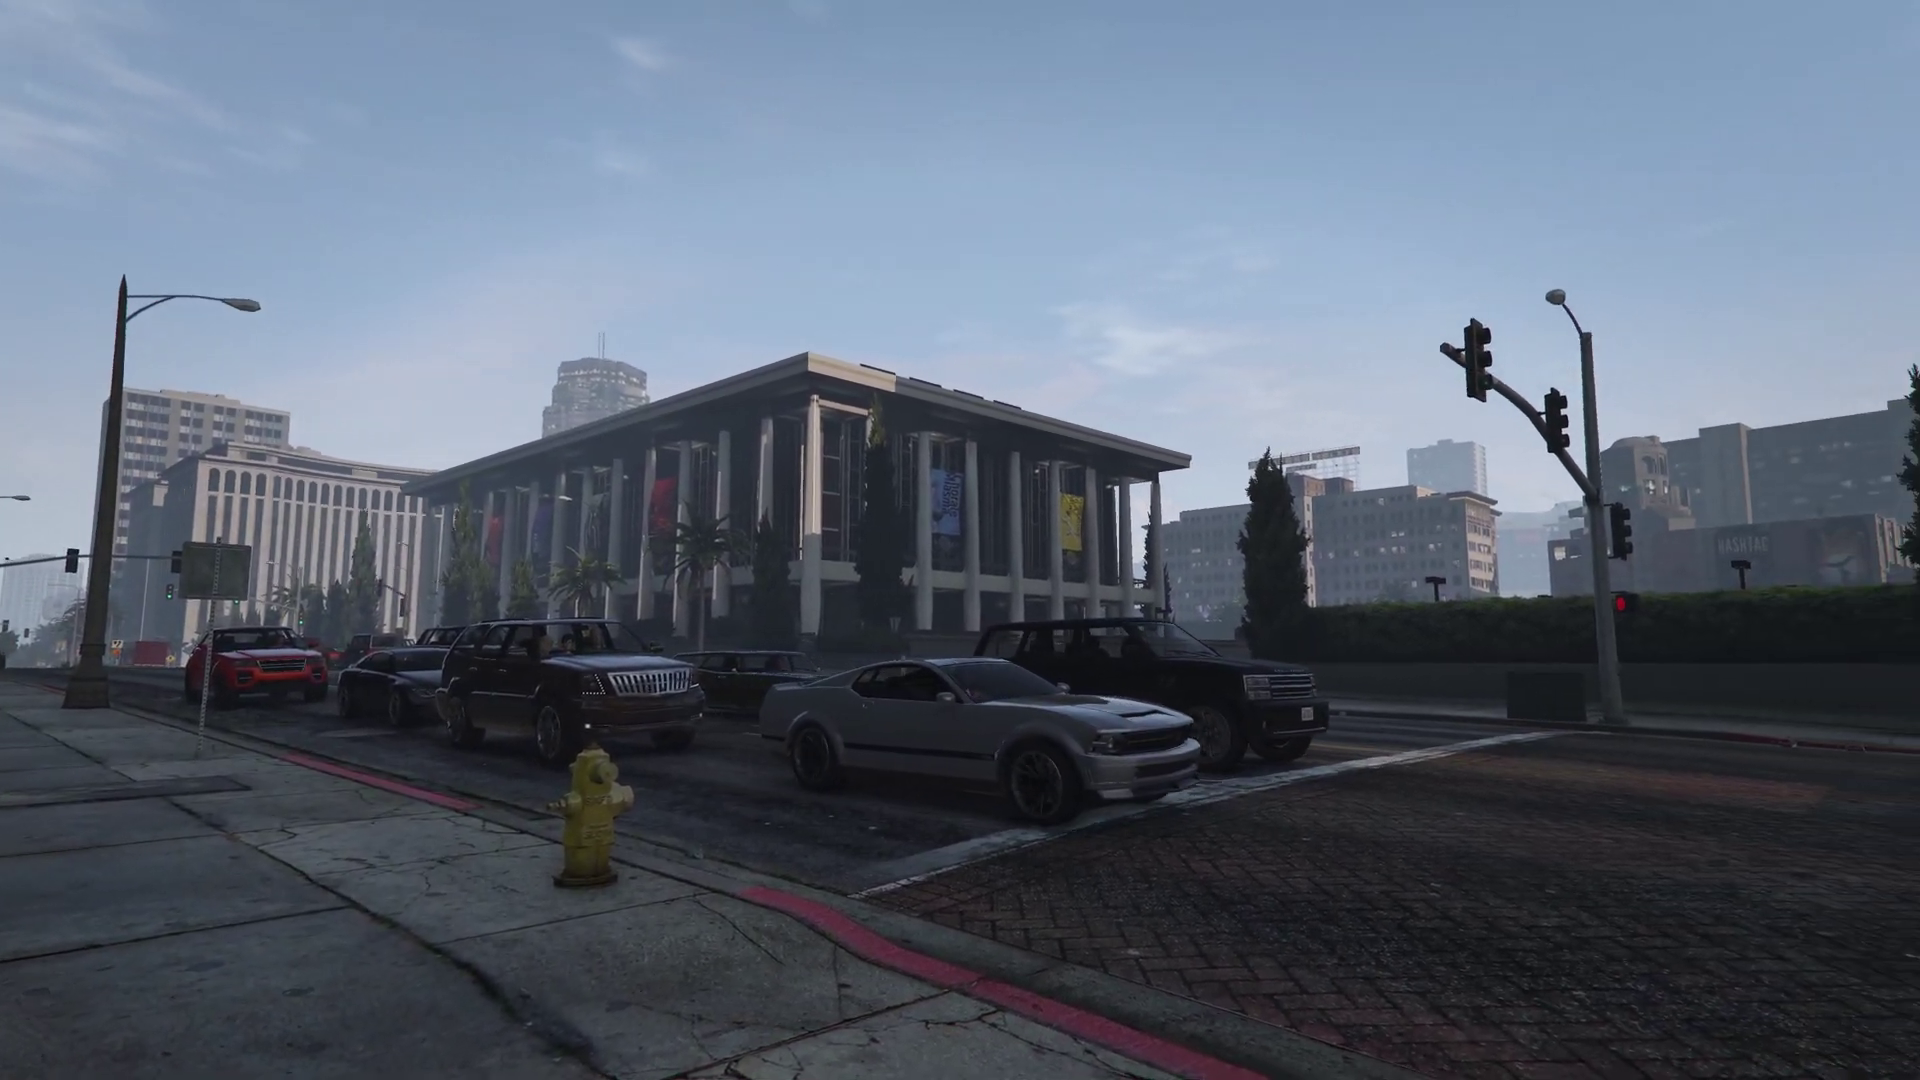car: (761, 657, 1207, 814), (973, 618, 1327, 770), (438, 620, 705, 753), (185, 625, 328, 703), (679, 651, 823, 712), (338, 647, 446, 725), (344, 634, 411, 659)
traffic light: (1465, 320, 1491, 404), (1543, 392, 1569, 456), (1607, 505, 1633, 562), (1615, 592, 1640, 616), (65, 547, 75, 575), (171, 551, 182, 578), (165, 582, 175, 601), (375, 578, 382, 599), (400, 597, 407, 617), (298, 611, 305, 624)
